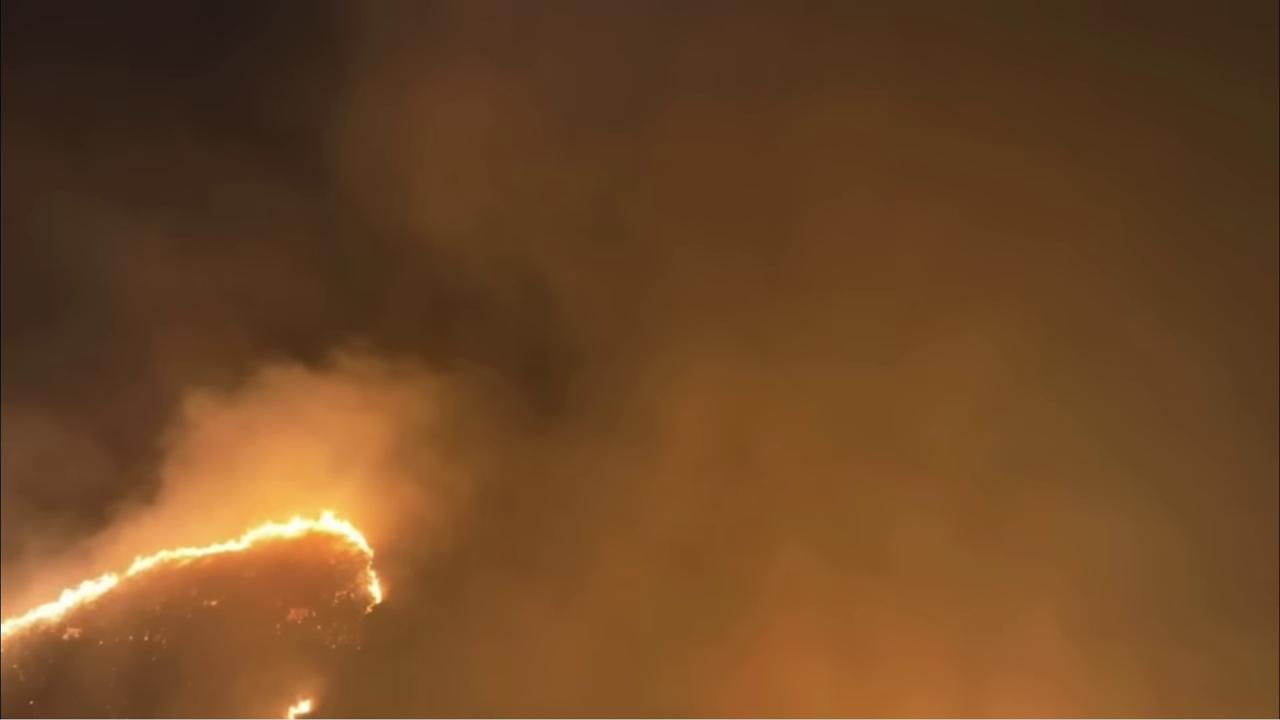fire: (0, 505, 386, 653), (281, 694, 317, 719)
smoke: (0, 0, 1280, 720)
